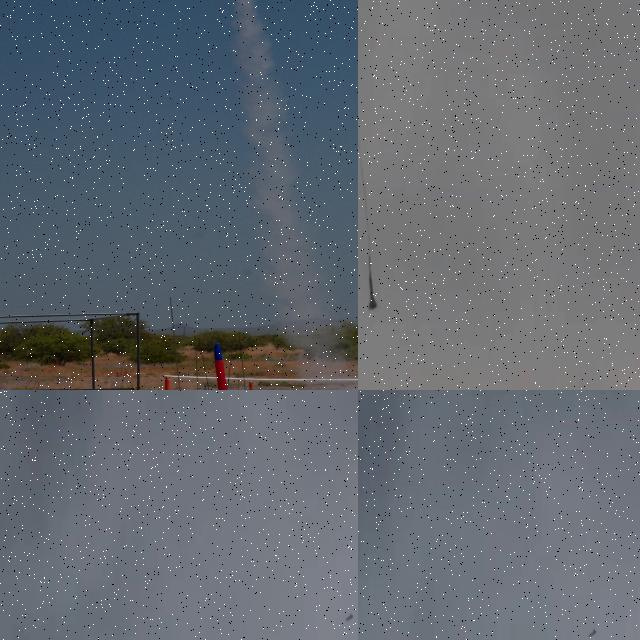Rocket: (213, 342, 244, 390), (369, 273, 376, 309), (346, 613, 354, 622), (589, 628, 596, 638)
